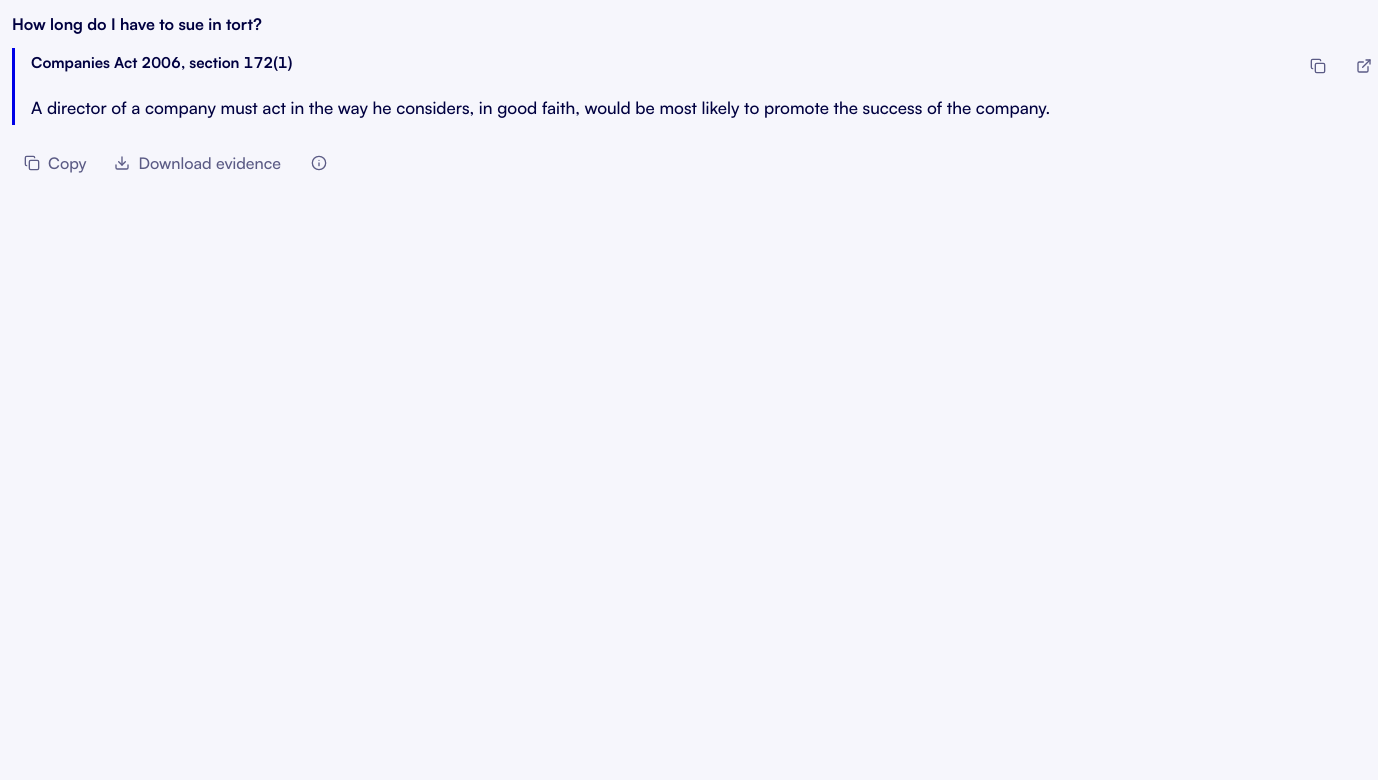
Test: QuoteBlock and extractive answers › renders full text, icon link, and per-block copy button for a single quote_requested window
Expected: the text "Companies Act 2006, section 172(1)" is shown, x1=31 y1=52 x2=292 y2=74
Expected: the text "A director of a company must act in the way he considers, in good faith, would be most likely to promote the success of " is shown, x1=31 y1=97 x2=1050 y2=118
Click the button named "Copy Companies Act 2006, section 172(1)". click: (1318, 66)
box: x1=1296 y1=44 x2=1340 y2=88
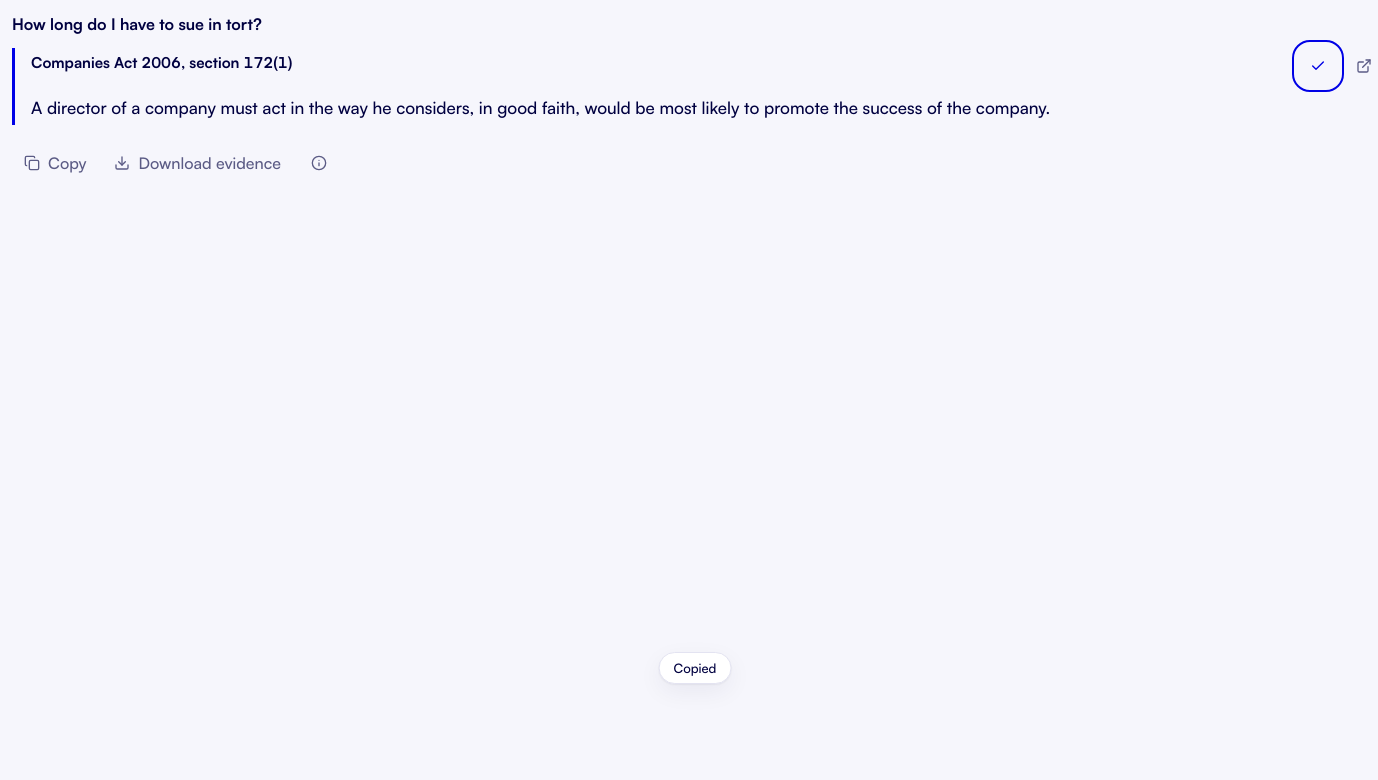
Expected: the message reads "Copied", x1=674 y1=660 x2=716 y2=676
